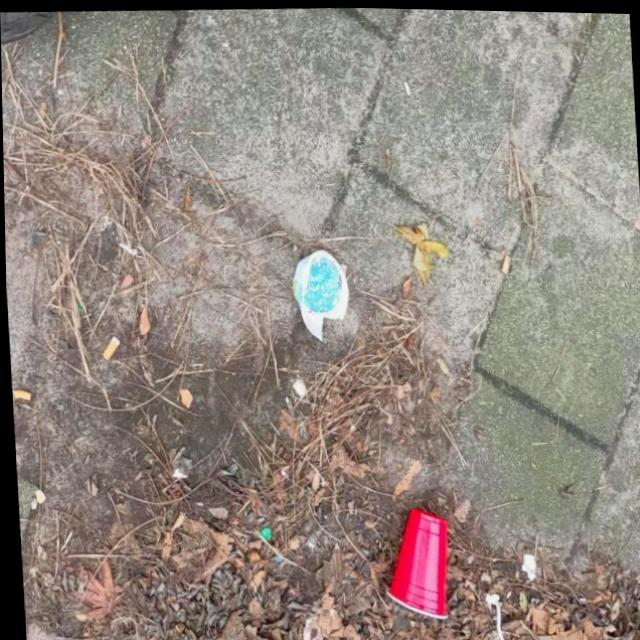Cup: (376, 501, 450, 619)
Paper: (287, 243, 350, 344)
